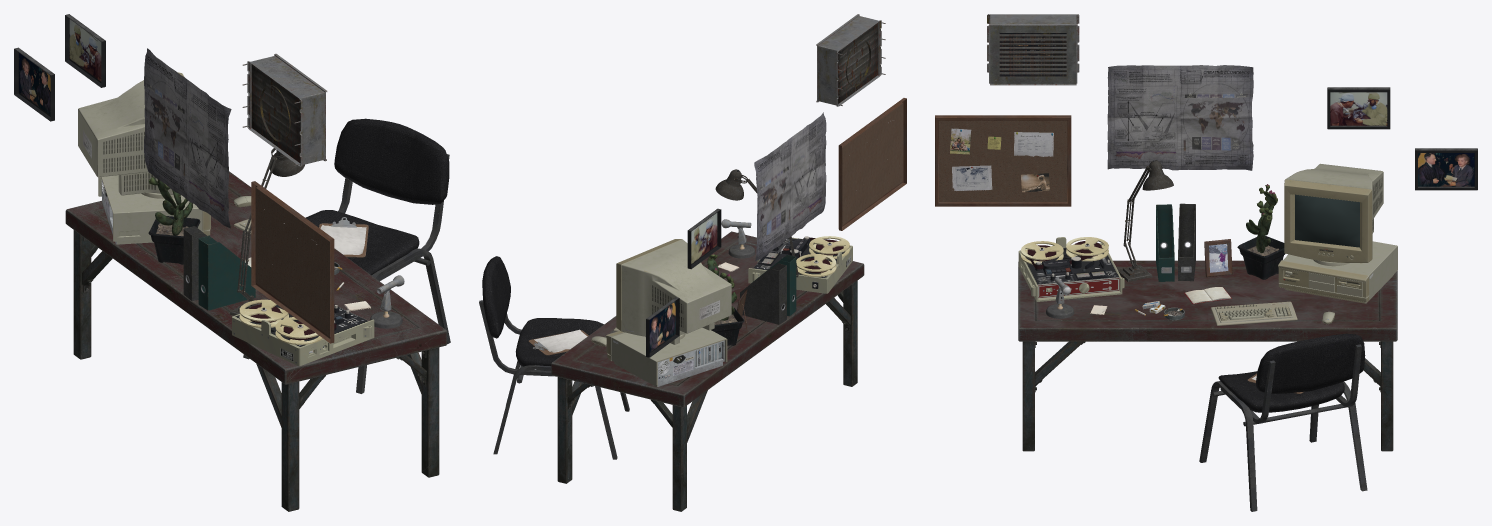
File: office_-_assets.glb
The picture shows the model from 3 angles, left to right: view 1: azimuth 30°, elevation 25°; view 2: azimuth 150°, elevation 25°; view 3: azimuth 270°, elevation 25°; orthographic projection. The views are drawn at different scales.
Visible parts, largest first — view 1: Table_Rough_32, Chair_51, Poster_Crumpled_45, PinBoard_24, Vent_44, Monitor_6, TapeRecorder_33, Computer_5, FileBox_Green_8, PhotoFrame1_47, PhotoFrame2_46, FileBox_Black_7 (+5 smaller); view 2: Table_Rough_32, Monitor_6, Poster_Crumpled_45, PinBoard_24, Chair_51, Computer_5, Vent_44, TapeRecorder_33, FileBox_Black_7, PhotoFrame1_47, PhotoFrame2_46, FileBox_Green_8 (+4 smaller); view 3: Table_Rough_32, Poster_Crumpled_45, Chair_51, PinBoard_24, Monitor_6, TapeRecorder_33, Computer_5, PhotoFrame1_47, PhotoFrame2_46, Vent_44, Vent_Cover_Frame_43, Vent_Cover_39 (+11 smaller).
Part boxes in pixels (x1,y1,x2,y2): Table_Rough_32: (65,171,447,511); Chair_51: (243,118,450,393); Poster_Crumpled_45: (144,48,231,228); PinBoard_24: (251,181,334,343); Vent_44: (247,53,327,166); Monitor_6: (78,72,184,198); TapeRecorder_33: (232,299,374,366); Computer_5: (98,175,210,244); FileBox_Green_8: (198,235,255,310); PhotoFrame1_47: (65,14,105,87); PhotoFrame2_46: (14,47,54,121); FileBox_Black_7: (183,226,206,300); Table_Rough_32: (551,231,864,511); Monitor_6: (616,239,731,344); Poster_Crumpled_45: (754,112,826,260); PinBoard_24: (838,98,906,230); Chair_51: (479,256,629,459); Computer_5: (605,327,727,386); Vent_44: (816,14,881,106); TapeRecorder_33: (748,236,852,293); FileBox_Black_7: (740,263,786,324); PhotoFrame1_47: (687,208,721,269); PhotoFrame2_46: (646,297,679,357); FileBox_Green_8: (751,254,796,316); Table_Rough_32: (1018,260,1397,451); Poster_Crumpled_45: (1107,65,1253,170); Chair_51: (1199,333,1367,511); PinBoard_24: (935,115,1071,206); Monitor_6: (1284,163,1383,266); TapeRecorder_33: (1018,237,1124,301); Computer_5: (1278,241,1397,303); PhotoFrame1_47: (1327,87,1390,129); PhotoFrame2_46: (1415,148,1477,190); Vent_44: (987,14,1079,85); Vent_Cover_Frame_43: (990,26,1075,83); Vent_Cover_39: (999,34,1066,74).
Bounding box in the file's own units: 1.72 × 2.18 × 2.89.
Materials: 14 (14 with a texture image).
